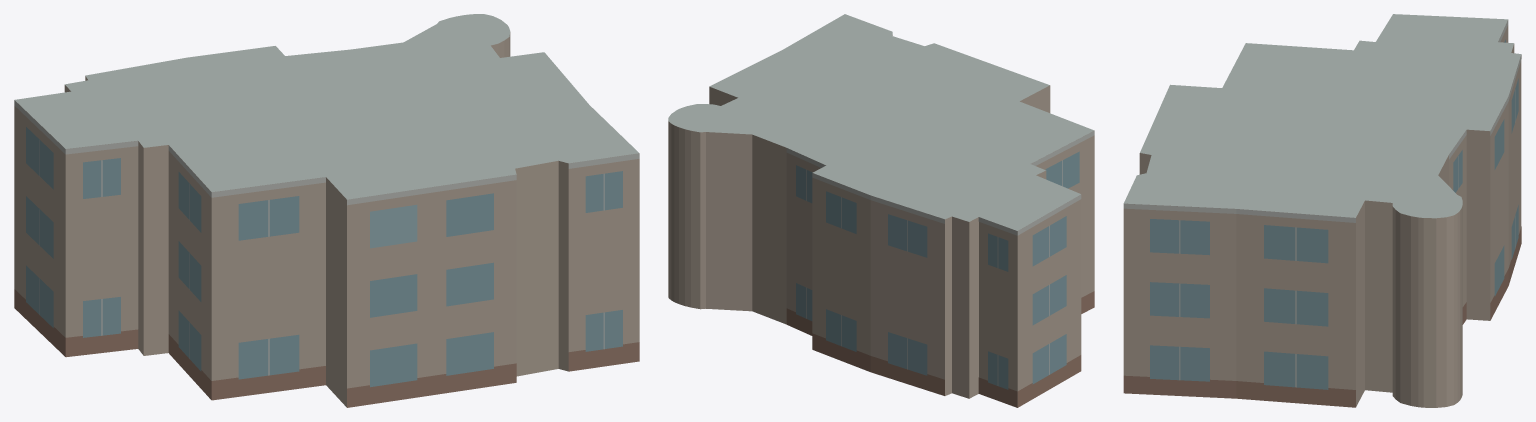
The model's file is survey-upis-33019201.glb.
3 views of the same model, side by side, from view 1: azimuth 30°, elevation 25°; view 2: azimuth 150°, elevation 25°; view 3: azimuth 270°, elevation 25° (orthographic). The views are drawn at different scales.
Parts seen in each view (by area): view 1: survey-upis-33019201.tmp; view 2: survey-upis-33019201.tmp; view 3: survey-upis-33019201.tmp.
Part boxes in pixels (bbox=[...]): survey-upis-33019201.tmp: bbox=[14, 14, 639, 407]; survey-upis-33019201.tmp: bbox=[668, 14, 1094, 407]; survey-upis-33019201.tmp: bbox=[1123, 14, 1521, 407].
Size of the model in its own units: 21.12 by 9.15 by 17.4.
